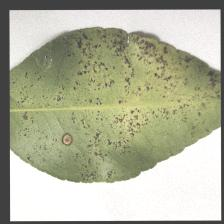canker: (45, 47, 202, 163)
